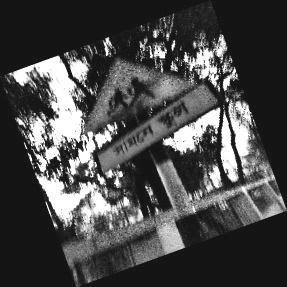School-in-front: (83, 57, 217, 178)
